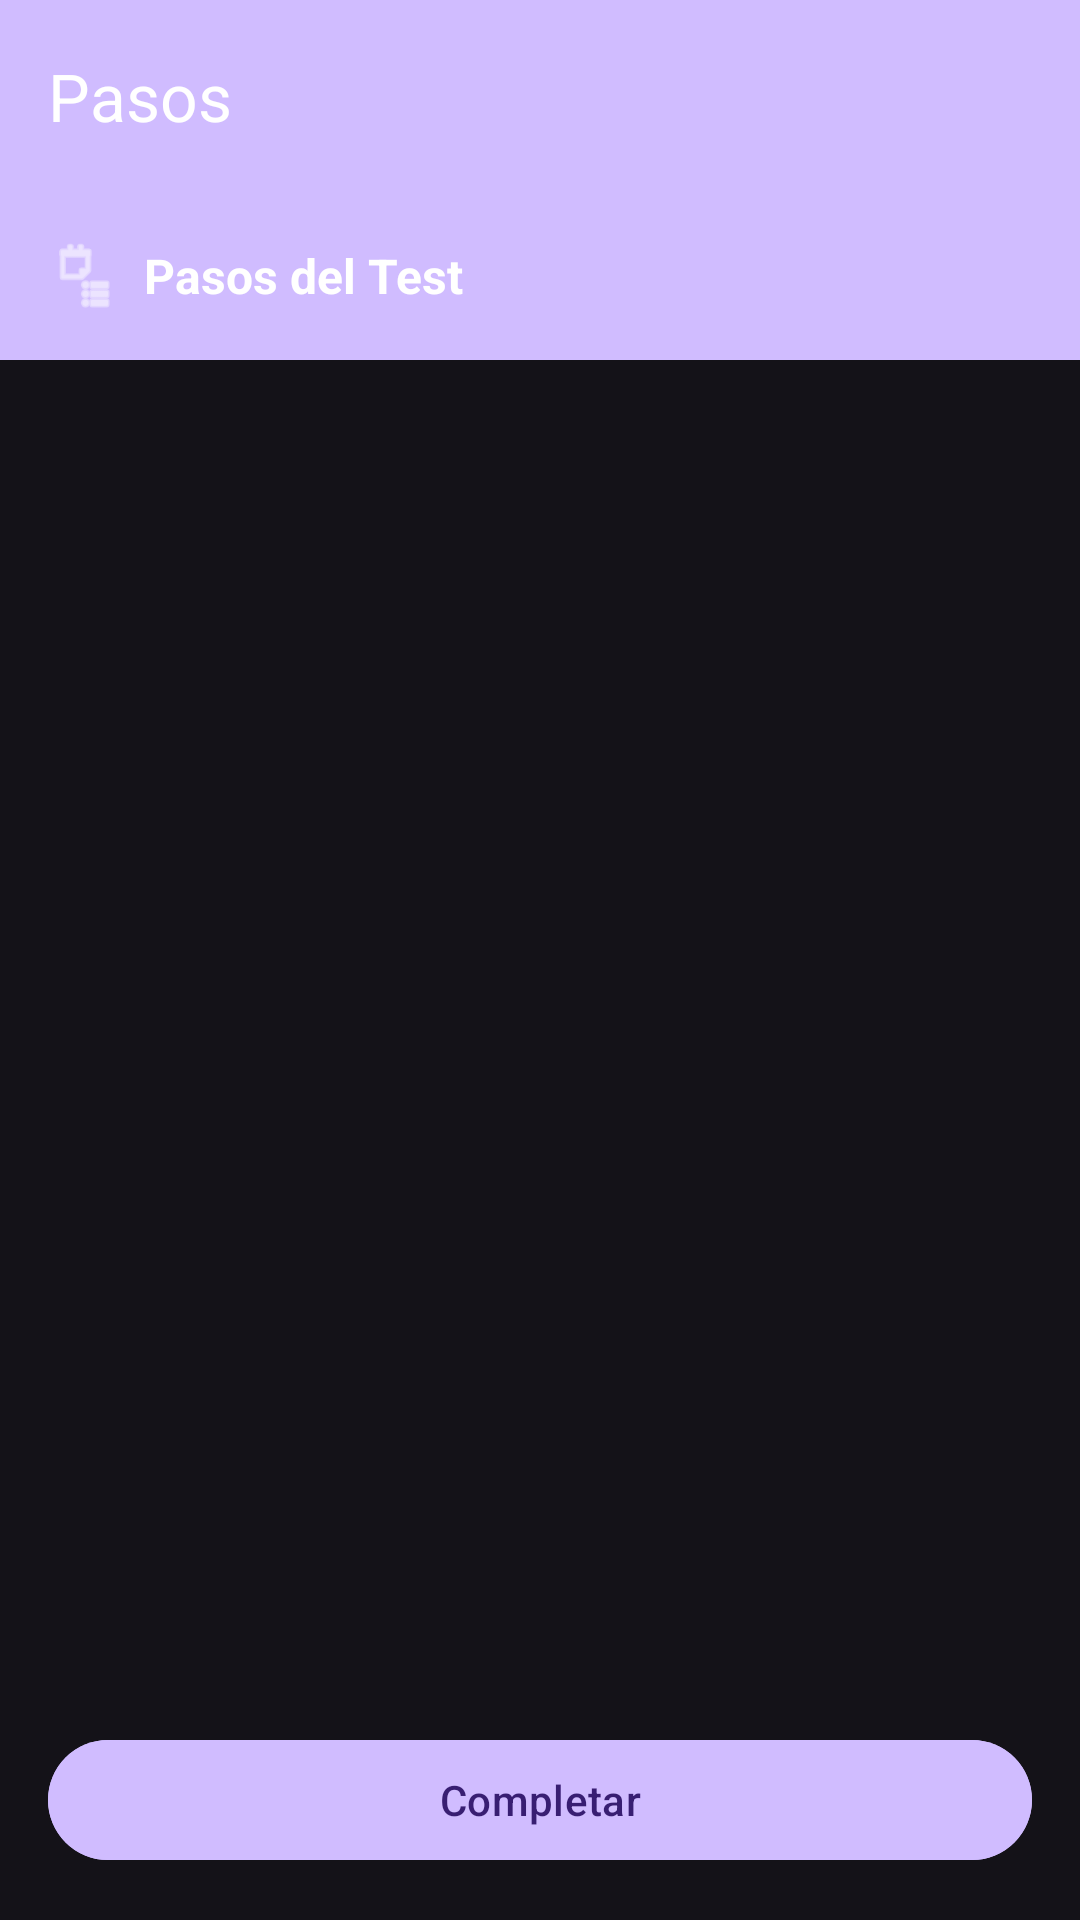

Point at icon controls on the screen. Image size 1080px×1920px, points as point (x, y).
agenda: point (84, 275)
